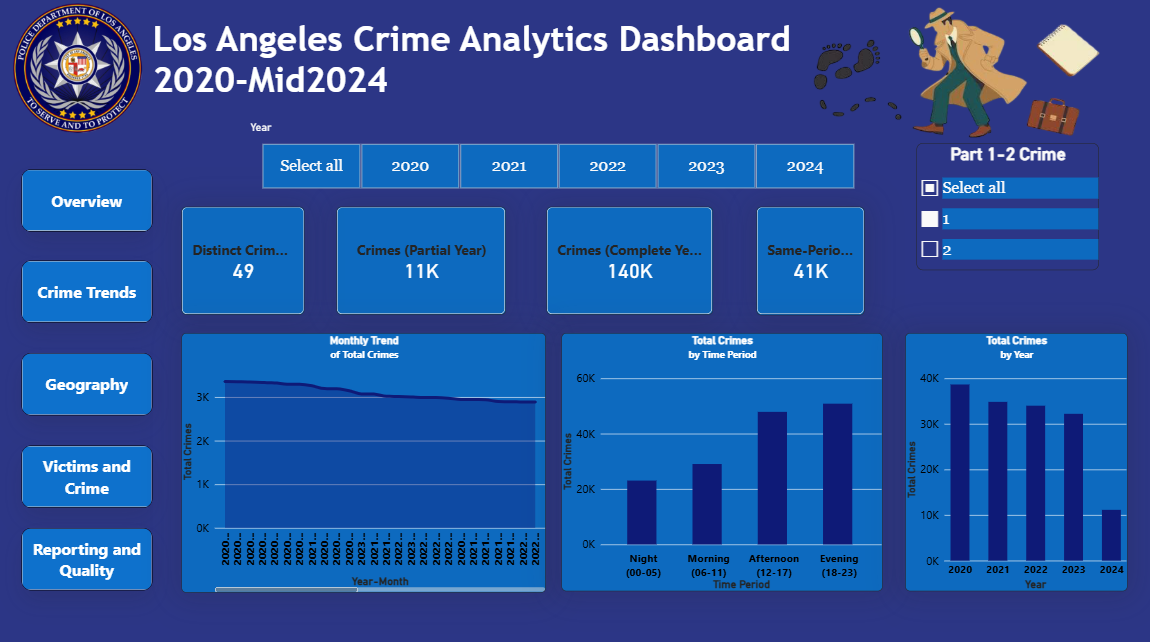

What the dashboard file says about the page in this screenshot:
{"tool":"powerbi","page":{"name":"Crime Trends","canvas":[1920,1080],"ordinal":1},"visuals":[{"type":"image","box":[18,8,221.4,220],"z":0},{"type":"actionButton","box":[38,286,218,104],"z":0,"group":"g1"},{"type":"group","id":"g1","title":"Group 1","box":[38,286,218,702],"z":1000},{"type":"actionButton","box":[38,438,218,104],"z":1000,"group":"g1"},{"type":"cardVisual","fields":{"Data":["Los_Angelas_Crime_Data_2020_24.Crimes (Complete Years)"]},"box":[912.5,347.5,277.5,180],"z":2000},{"type":"actionButton","box":[38,592,218,104],"z":2000,"group":"g1"},{"type":"cardVisual","fields":{"Data":["Los_Angelas_Crime_Data_2020_24.Crimes (Partial Year)"]},"box":[562.5,347.5,282.5,180],"z":3000},{"type":"actionButton","box":[38,746,218,104],"z":3000,"group":"g1"},{"type":"cardVisual","fields":{"Data":["Los_Angelas_Crime_Data_2020_24.Distinct Crime Types"]},"box":[305,347.5,205,180],"z":4000},{"type":"actionButton","box":[38,884,218,104],"z":4000,"group":"g1"},{"type":"cardVisual","fields":{"Data":["Los_Angelas_Crime_Data_2020_24.Same-Period Crimes"]},"box":[1262.5,347.5,180,180.9],"z":5000},{"type":"lineChart","title":"Monthly Trend","fields":{"Category":["Date Table.Year-Month"],"Y":["Los_Angelas_Crime_Data_2020_24.Total Crimes"]},"box":[305,557.5,607.5,432.5],"z":6000},{"type":"slicer","title":"Year","fields":{"Values":["Date Table.Year"]},"box":[418,204,1025,115],"z":7000},{"type":"columnChart","fields":{"Category":["Los_Angelas_Crime_Data_2020_24.Time Period"],"Y":["Los_Angelas_Crime_Data_2020_24.Total Crimes"]},"box":[937.5,557.5,535,430],"z":8000},{"type":"columnChart","fields":{"Category":["Date Table.Year"],"Y":["Los_Angelas_Crime_Data_2020_24.Total Crimes"]},"box":[1510,557.5,370,430],"z":9000},{"type":"textbox","box":[255.2,32.9,1130,170.8],"z":10000},{"type":"slicer","title":"Part 1-2 Crime","fields":{"Values":["Los_Angelas_Crime_Data_2020_24.Part 1-2"]},"box":[1529.2,241.7,304,212],"z":11000},{"type":"image","box":[1270,0,650,262.5],"z":11001}]}

Visuals, with their boxes in screenshot pixels (x1, y1, x2, y2), scaled from the page's 1920x1080 canvas onto the 1150x642 screenshot:
image: (left=11, top=5, right=143, bottom=136)
actionButton: (left=23, top=170, right=153, bottom=232)
"Group 1" group: (left=23, top=170, right=153, bottom=587)
actionButton: (left=23, top=260, right=153, bottom=322)
cardVisual - Los_Angelas_Crime_Data_2020_24.Crimes (Complete Years): (left=547, top=207, right=713, bottom=314)
actionButton: (left=23, top=352, right=153, bottom=414)
cardVisual - Los_Angelas_Crime_Data_2020_24.Crimes (Partial Year): (left=337, top=207, right=506, bottom=314)
actionButton: (left=23, top=443, right=153, bottom=505)
cardVisual - Los_Angelas_Crime_Data_2020_24.Distinct Crime Types: (left=183, top=207, right=305, bottom=314)
actionButton: (left=23, top=525, right=153, bottom=587)
cardVisual - Los_Angelas_Crime_Data_2020_24.Same-Period Crimes: (left=756, top=207, right=864, bottom=314)
"Monthly Trend" lineChart: (left=183, top=331, right=547, bottom=588)
"Year" slicer: (left=250, top=121, right=864, bottom=190)
columnChart - Los_Angelas_Crime_Data_2020_24.Time Period x Los_Angelas_Crime_Data_2020_24.Total Crimes: (left=562, top=331, right=882, bottom=587)
columnChart - Date Table.Year x Los_Angelas_Crime_Data_2020_24.Total Crimes: (left=904, top=331, right=1126, bottom=587)
textbox: (left=153, top=20, right=830, bottom=121)
"Part 1-2 Crime" slicer: (left=916, top=144, right=1098, bottom=270)
image: (left=761, top=0, right=1149, bottom=156)
